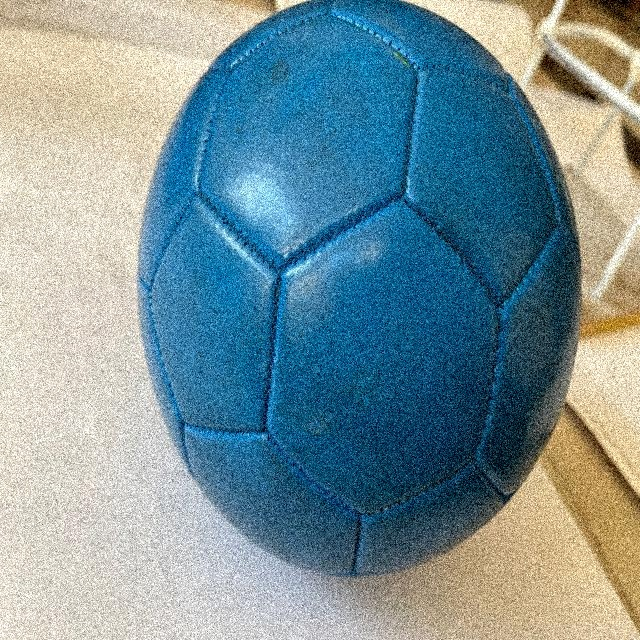blue_ball: (139, 0, 583, 574)
silo: (531, 1, 639, 324)
